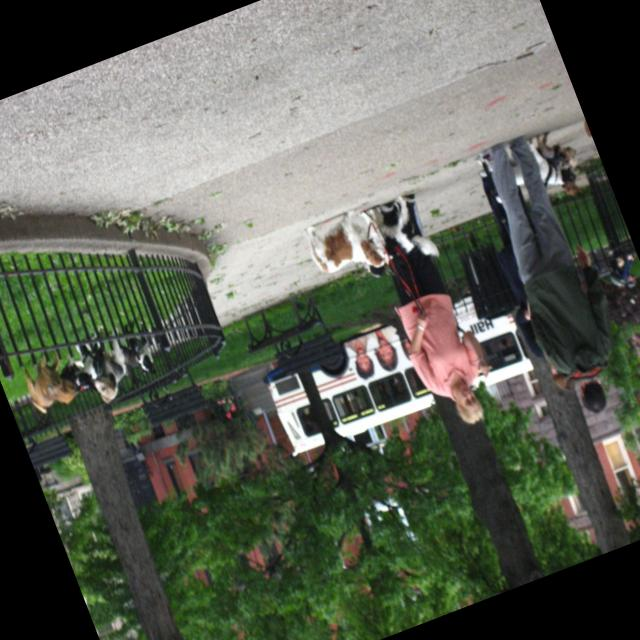bus: (258, 276, 536, 462)
